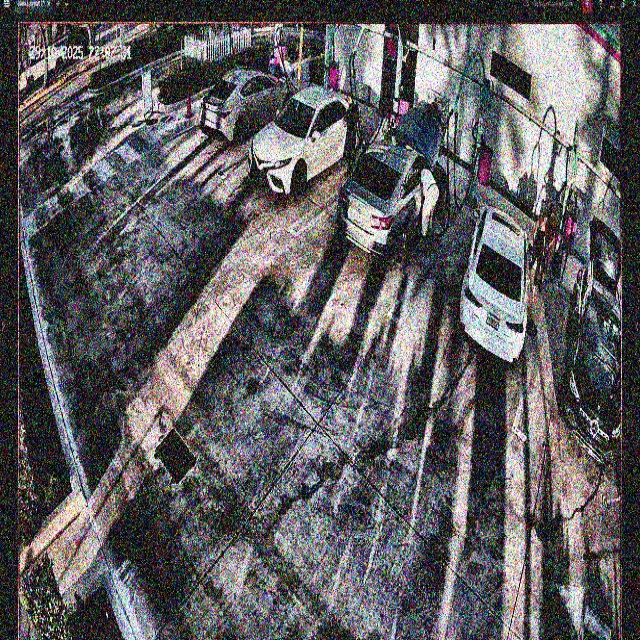Car: (338, 108, 438, 260), (251, 90, 360, 192), (463, 203, 528, 364), (204, 68, 295, 145)
